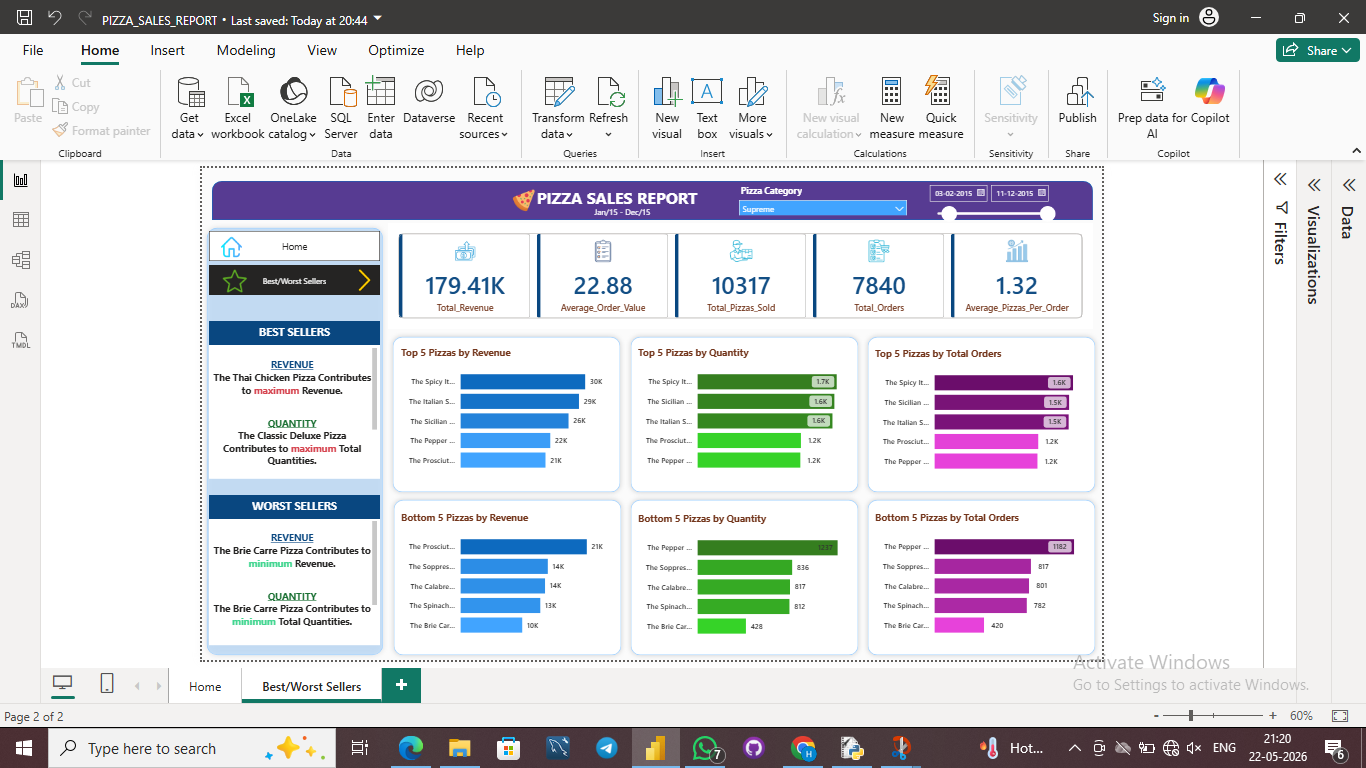

Layout of this report page (visuals, bound fields, positions):
{"tool":"powerbi","page":{"name":"Best/Worst Sellers","canvas":[1500,820],"ordinal":1},"visuals":[{"type":"shape","box":[0,91.7,310,728.3],"z":0},{"type":"cardVisual","fields":{"Data":["pizza_db pizza_sales.Total_Revenue","pizza_db pizza_sales.Average_Order_Value","pizza_db pizza_sales.Total_Pizzas_Sold","pizza_db pizza_sales.Total_Orders","pizza_db pizza_sales.Average_Pizzas_Per_Order"]},"box":[310,91.7,1175,176.7],"z":1000},{"type":"shape","box":[16.7,21.7,1468.3,65],"z":2000},{"type":"textbox","box":[551.7,26.7,280,56.7],"z":3000},{"type":"textbox","box":[641.7,60,128.3,45],"z":4000},{"type":"image","box":[508.3,35,56.7,38.3],"z":5000},{"type":"shape","box":[310,273.3,395,275],"z":6000},{"type":"textbox","box":[11.7,255,285,40],"z":7000},{"type":"textbox","box":[11.7,295,285,223.3],"z":8000},{"type":"textbox","box":[11.7,583.3,285,211.7],"z":9000},{"type":"textbox","box":[11.7,545,285,40],"z":10000},{"type":"slicer","title":"Pizza Category","fields":{"Values":["pizza_db pizza_sales.pizza_category"]},"box":[885,21.7,300,56.7],"z":11000},{"type":"slicer","title":"Pizza Category","fields":{"Values":["pizza_db pizza_sales.order_date"]},"box":[1200,18.3,241.7,83.3],"z":12000},{"type":"shape","box":[706.7,273.3,395,275],"z":13000},{"type":"shape","box":[1101.7,273.3,395,275],"z":14000},{"type":"shape","box":[311.7,545,395,275],"z":15000},{"type":"shape","box":[706.7,545,395,275],"z":16000},{"type":"shape","box":[1101.7,545,395,275],"z":17000},{"type":"barChart","title":"Top 5 Pizzas by Revenue","fields":{"Category":["pizza_db pizza_sales.pizza_name"],"Y":["pizza_db pizza_sales.Total_Revenue"]},"box":[326.7,296.7,365,221.7],"z":18000},{"type":"barChart","title":"Top 5 Pizzas by Quantity","fields":{"Category":["pizza_db pizza_sales.pizza_name"],"Y":["pizza_db pizza_sales.Total_Pizzas_Sold"]},"box":[721.7,296.7,365,221.7],"z":19000},{"type":"barChart","title":" Bottom 5 Pizzas by Revenue","fields":{"Category":["pizza_db pizza_sales.pizza_name"],"Y":["pizza_db pizza_sales.Total_Revenue"]},"box":[326.7,571.7,365,221.7],"z":20000},{"type":"barChart","title":"Top 5 Pizzas by Total Orders","fields":{"Category":["pizza_db pizza_sales.pizza_name"],"Y":["pizza_db pizza_sales.Total_Orders"]},"box":[1116.7,298.3,365,221.7],"z":21000},{"type":"barChart","title":"Bottom 5 Pizzas by Quantity","fields":{"Category":["pizza_db pizza_sales.pizza_name"],"Y":["pizza_db pizza_sales.Total_Pizzas_Sold"]},"box":[721.7,573.3,365,221.7],"z":22000},{"type":"barChart","title":"Bottom 5 Pizzas by Total Orders","fields":{"Category":["pizza_db pizza_sales.pizza_name"],"Y":["pizza_db pizza_sales.Total_Orders"]},"box":[1116.7,571.7,365,221.7],"z":23000},{"type":"pageNavigator","box":[11.7,105,285,50],"z":24000},{"type":"pageNavigator","box":[11.7,161.7,285,50],"z":25000},{"type":"image","box":[245,168.3,51.7,36.7],"z":26000},{"type":"image","box":[31.7,108.3,35,46.7],"z":27000},{"type":"image","box":[16.7,168.3,75,40],"z":28000}]}

Visuals, with their boxes on the page's 1500x820 design canvas (x1, y1, x2, y2). These are canvas units, not pixel positions in the 1366x768 screenshot, which may show the page scaled, cropped or inside an application window:
shape: pyautogui.locateOnScreen(0, 92, 310, 820)
cardVisual - pizza_db pizza_sales.Total_Revenue x pizza_db pizza_sales.Average_Order_Value: pyautogui.locateOnScreen(310, 92, 1485, 268)
shape: pyautogui.locateOnScreen(17, 22, 1485, 87)
textbox: pyautogui.locateOnScreen(552, 27, 832, 83)
textbox: pyautogui.locateOnScreen(642, 60, 770, 105)
image: pyautogui.locateOnScreen(508, 35, 565, 73)
shape: pyautogui.locateOnScreen(310, 273, 705, 548)
textbox: pyautogui.locateOnScreen(12, 255, 297, 295)
textbox: pyautogui.locateOnScreen(12, 295, 297, 518)
textbox: pyautogui.locateOnScreen(12, 583, 297, 795)
textbox: pyautogui.locateOnScreen(12, 545, 297, 585)
"Pizza Category" slicer: pyautogui.locateOnScreen(885, 22, 1185, 78)
"Pizza Category" slicer: pyautogui.locateOnScreen(1200, 18, 1442, 102)
shape: pyautogui.locateOnScreen(707, 273, 1102, 548)
shape: pyautogui.locateOnScreen(1102, 273, 1497, 548)
shape: pyautogui.locateOnScreen(312, 545, 707, 820)
shape: pyautogui.locateOnScreen(707, 545, 1102, 820)
shape: pyautogui.locateOnScreen(1102, 545, 1497, 820)
"Top 5 Pizzas by Revenue" barChart: pyautogui.locateOnScreen(327, 297, 692, 518)
"Top 5 Pizzas by Quantity" barChart: pyautogui.locateOnScreen(722, 297, 1087, 518)
" Bottom 5 Pizzas by Revenue" barChart: pyautogui.locateOnScreen(327, 572, 692, 793)
"Top 5 Pizzas by Total Orders" barChart: pyautogui.locateOnScreen(1117, 298, 1482, 520)
"Bottom 5 Pizzas by Quantity" barChart: pyautogui.locateOnScreen(722, 573, 1087, 795)
"Bottom 5 Pizzas by Total Orders" barChart: pyautogui.locateOnScreen(1117, 572, 1482, 793)
pageNavigator: pyautogui.locateOnScreen(12, 105, 297, 155)
pageNavigator: pyautogui.locateOnScreen(12, 162, 297, 212)
image: pyautogui.locateOnScreen(245, 168, 297, 205)
image: pyautogui.locateOnScreen(32, 108, 67, 155)
image: pyautogui.locateOnScreen(17, 168, 92, 208)
